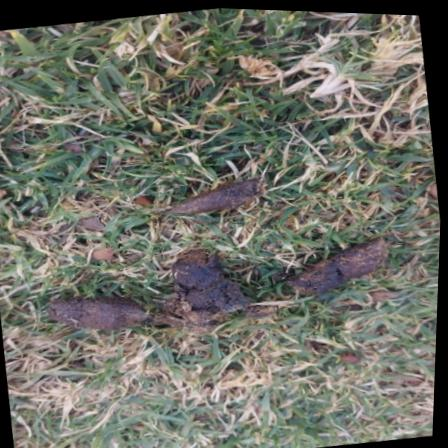dog-poop: (16, 220, 401, 359), (141, 165, 275, 229)
